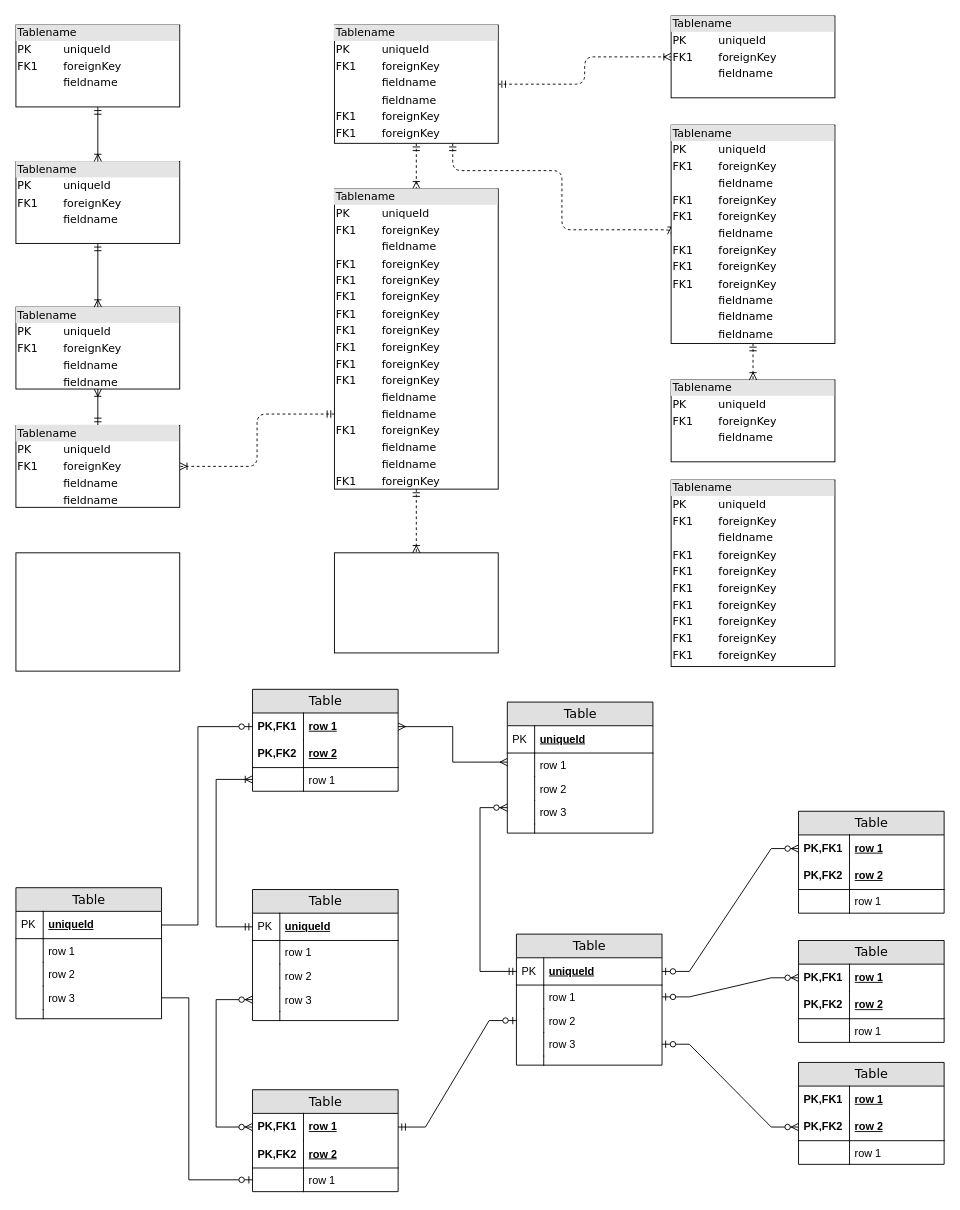
This 960x1210 diagram has some shape labels left out. Each missing label, with the centre of its shape:
Tablename PK uniqueId FK1 foreignKey fieldname fieldname fieldname fieldname: the point at 97,611
Tablename PK uniqueId FK1 foreignKey fieldname fieldname FK1 foreignKey: the point at 416,602
